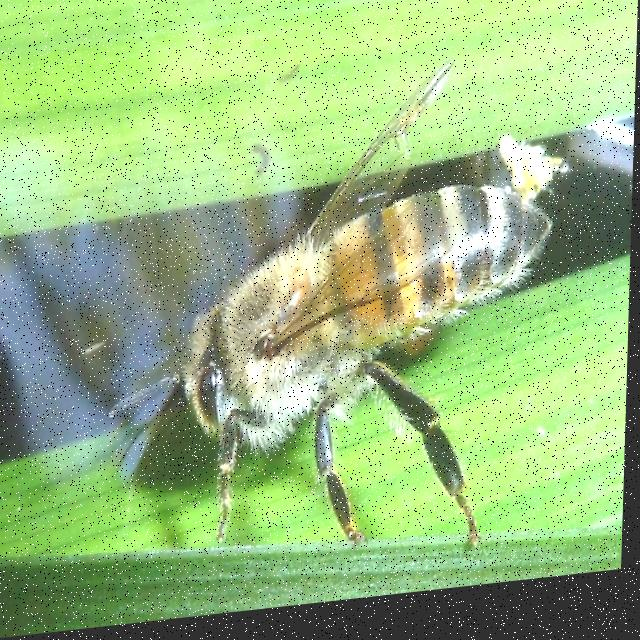Apis-mellifera-scutellata: (111, 65, 567, 607)
